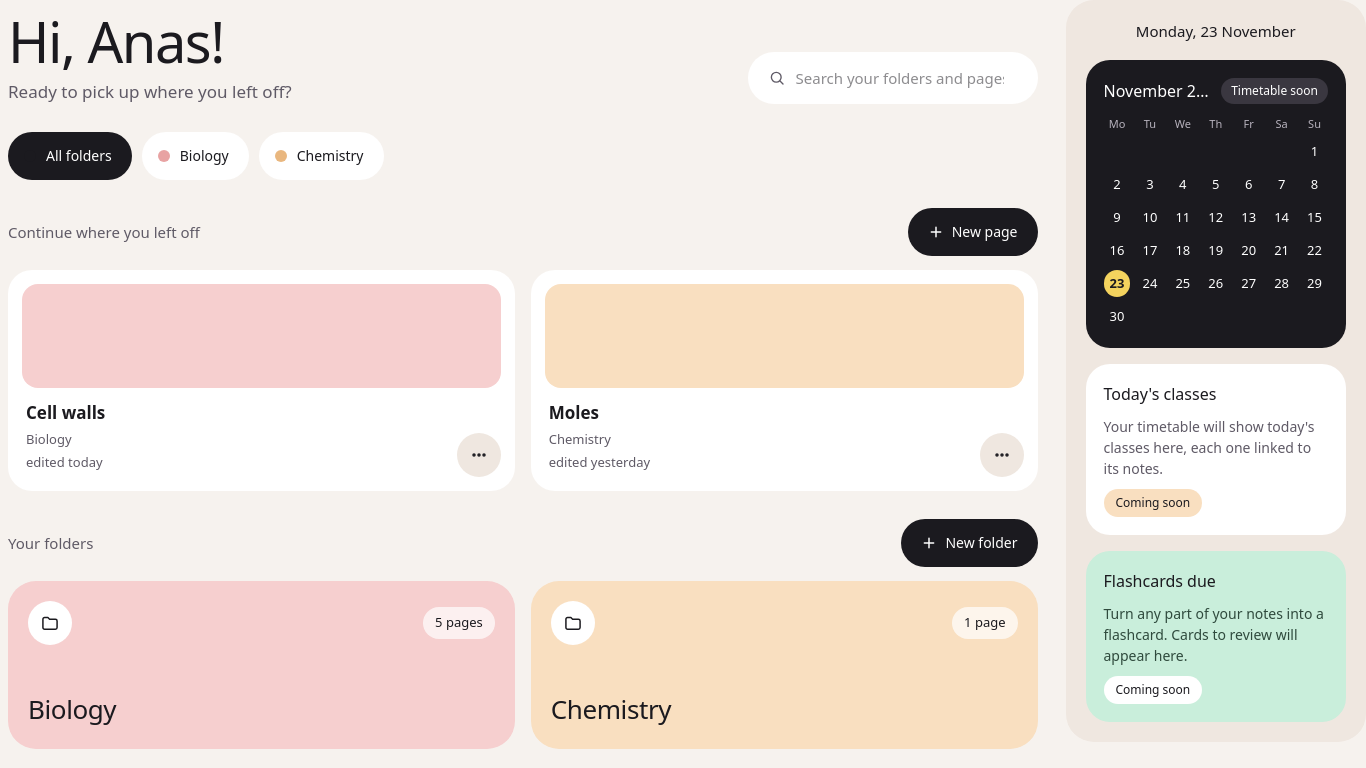
Test case: Dashboard › each recent page card has an actions menu button next to a link that opens the page
Click the button named "Actions for Cell walls". click: (479, 455)
box: [457,433,501,477]
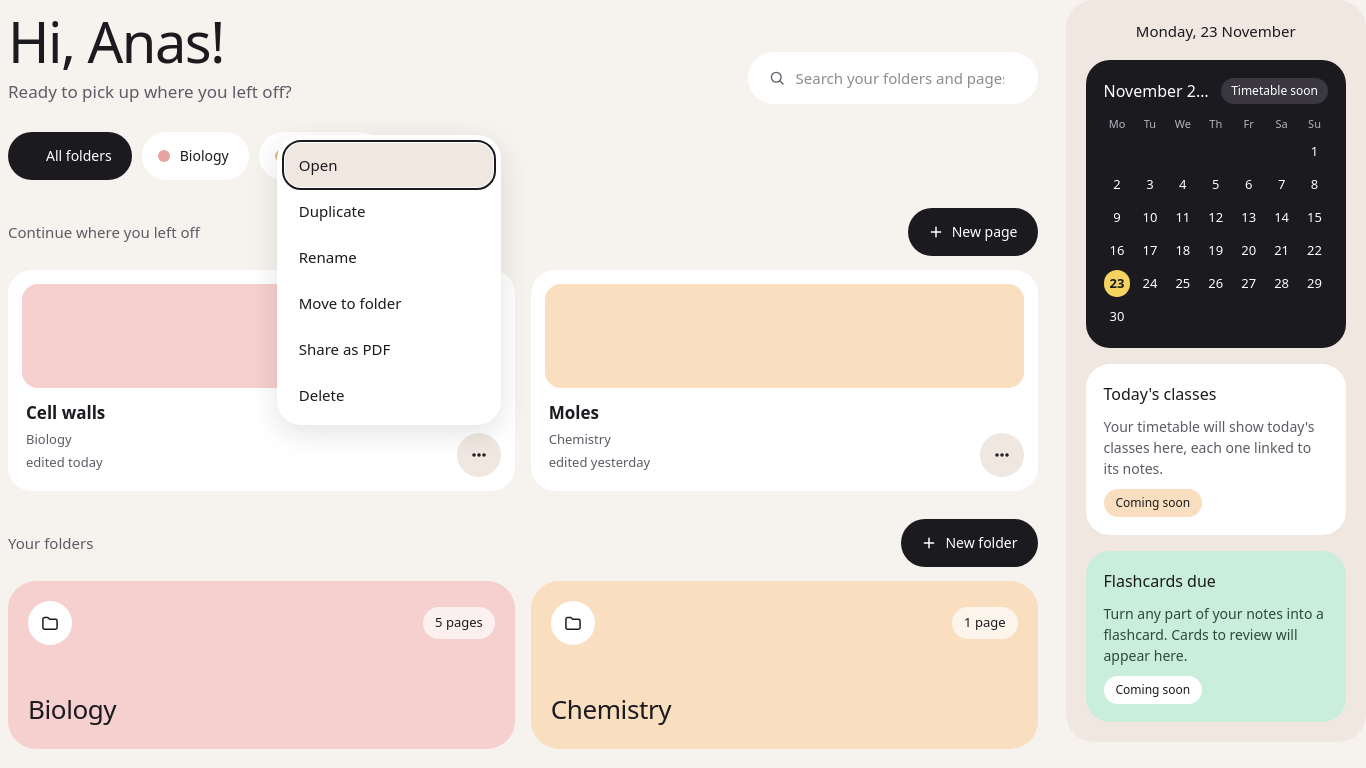
Click the menu item "Move to folder". click: (389, 303)
box: [285,281,493,325]
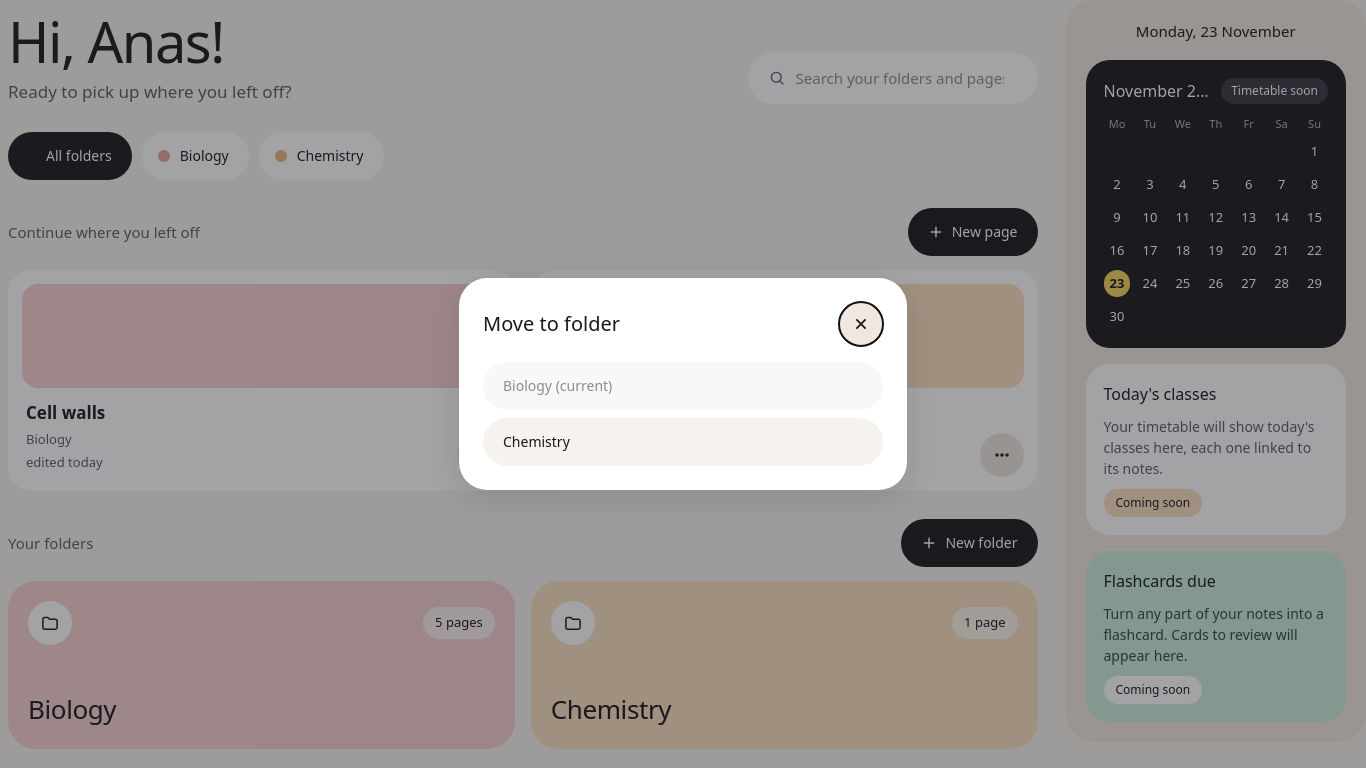
Check: the button "Chemistry" is shown, box [483,418,883,466]
Check: the button "Biology (current)" is disabled, box [483,362,883,410]
